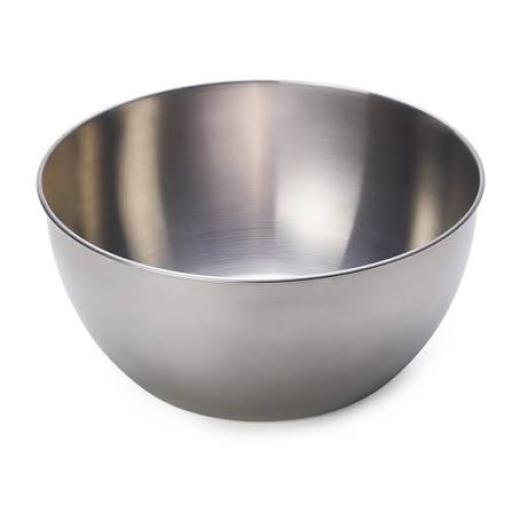Bowl: (38, 80, 483, 419)
